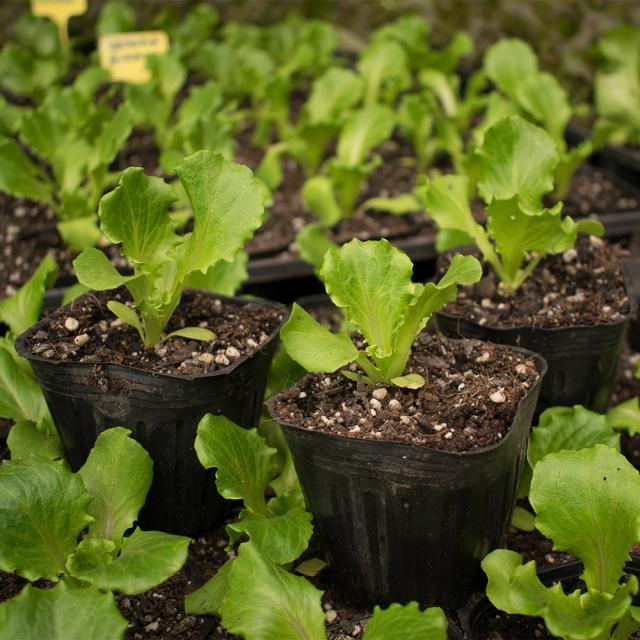verde: (74, 150, 263, 347), (421, 116, 603, 293), (283, 239, 481, 386)
